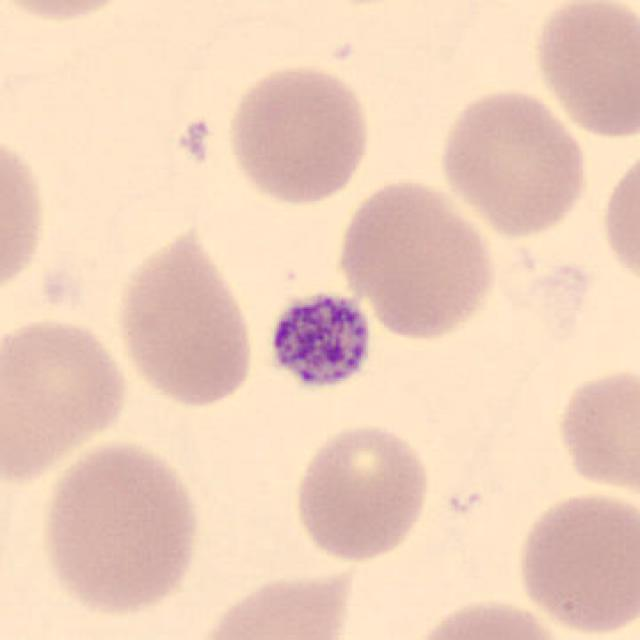Platelets: (261, 287, 375, 397)
RBC: (36, 435, 204, 619), (332, 173, 502, 344), (110, 220, 260, 412), (434, 83, 592, 240), (0, 310, 135, 487), (222, 58, 375, 208), (288, 418, 436, 564), (510, 487, 638, 638), (528, 0, 638, 143), (190, 562, 363, 640), (551, 361, 640, 499), (0, 124, 52, 308), (407, 594, 571, 640), (595, 139, 640, 296), (0, 0, 144, 26)
